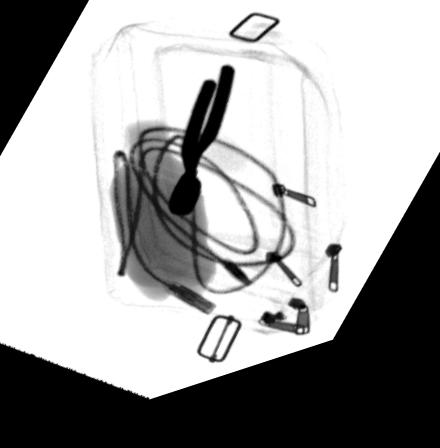Pliers: (164, 78, 235, 229)
